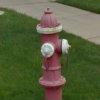Hydrant: (29, 3, 84, 100)
